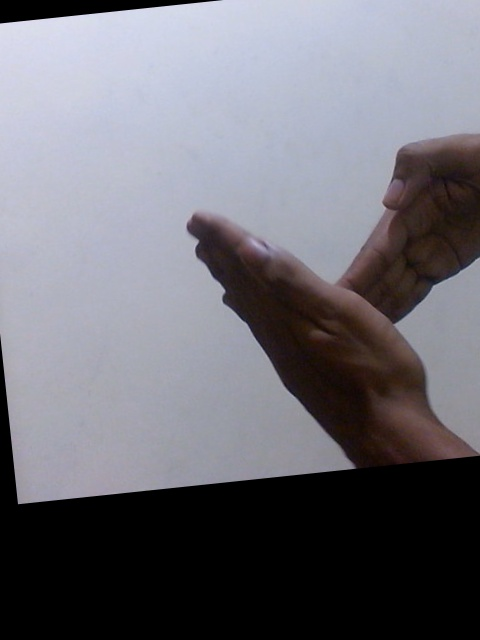hand: (181, 206, 434, 432), (330, 131, 480, 336)
